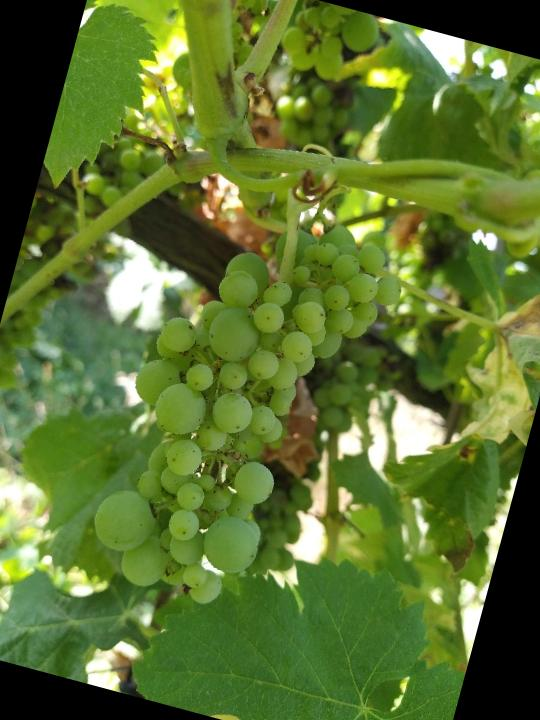grape: (78, 179, 418, 637)
